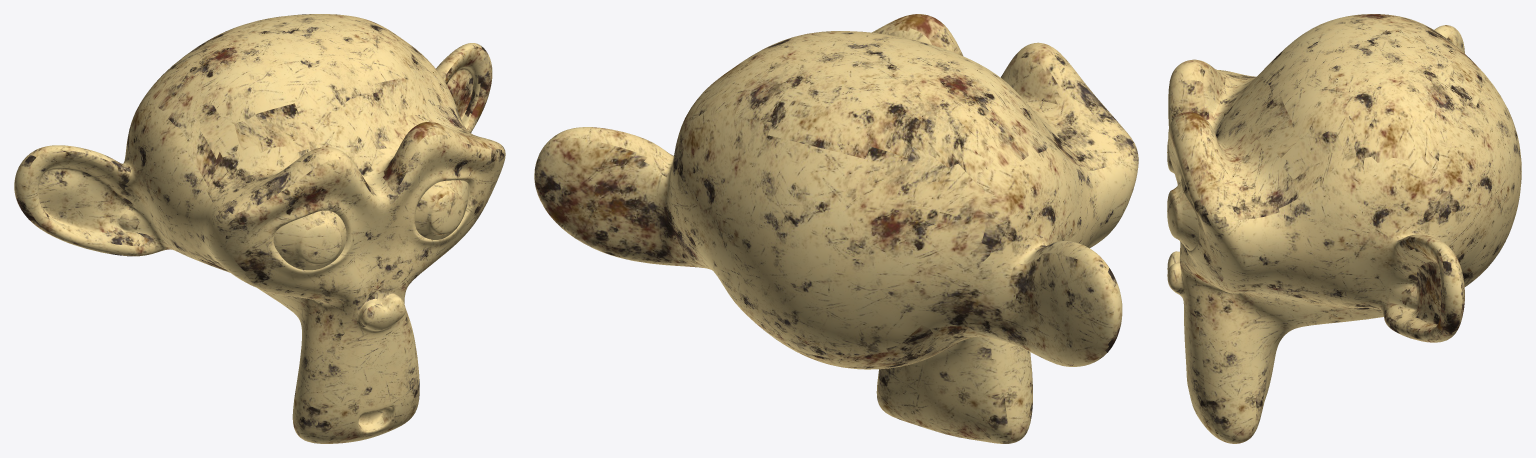
The model's file is nanotech_head.glb.
3 renders of one model, left to right at view 1: azimuth 30°, elevation 25°; view 2: azimuth 150°, elevation 25°; view 3: azimuth 270°, elevation 25°, orthographic. The views are drawn at different scales.
Visible parts, largest first — view 1: NanoTechHead; view 2: NanoTechHead; view 3: NanoTechHead.
Boxes of the visible parts, box(x1,y1,x2,y2) form: NanoTechHead: box(14, 14, 505, 443); NanoTechHead: box(534, 14, 1138, 443); NanoTechHead: box(1167, 14, 1521, 443).
Size of the model in its own units: 2 by 1.44 by 1.2.
Materials: 1 (1 with a texture image).
